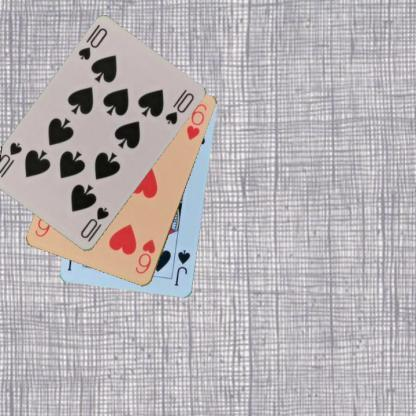10s: (76, 25, 110, 62), (78, 204, 112, 240)
6h: (133, 237, 157, 275)
Js: (172, 247, 192, 288)
